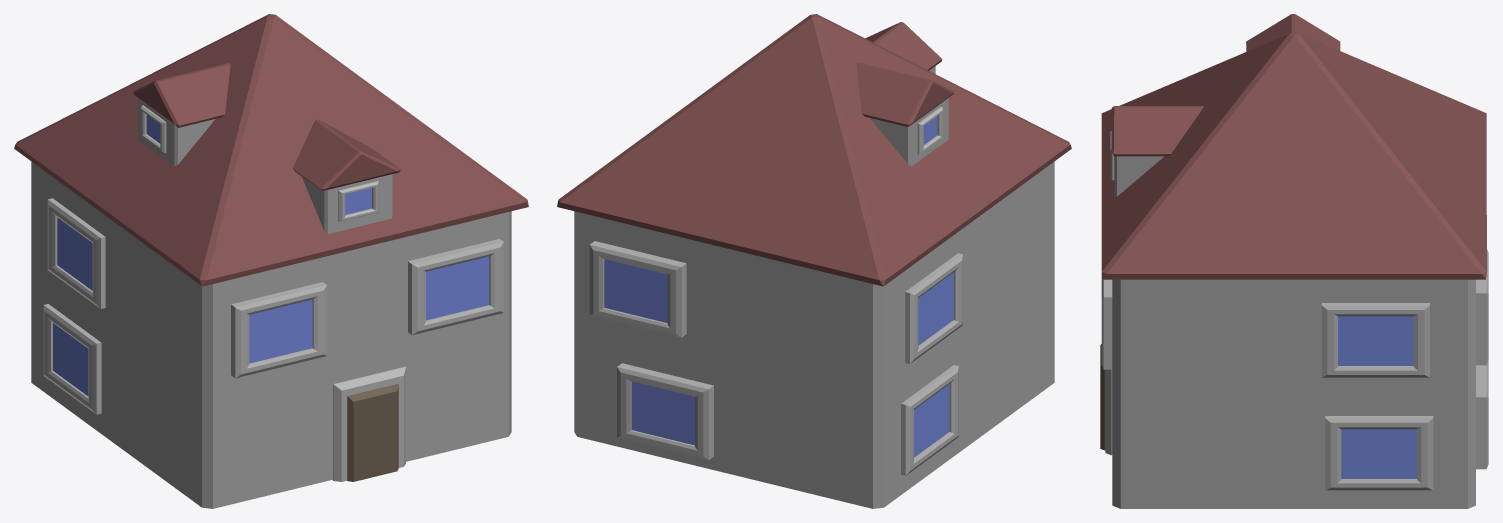
The model's file is house2.fbx.
3 renders of one model, left to right at view 1: azimuth 30°, elevation 25°; view 2: azimuth 150°, elevation 25°; view 3: azimuth 270°, elevation 25°, orthographic.
Visible parts, largest first — view 1: house1; view 2: house1; view 3: house1.
Boxes of the visible parts, x1,y1,x2,y2 form: house1: (14,14,528,508); house1: (557,14,1071,508); house1: (1100,14,1488,508).
Size of the model in its own units: 9 by 10.31 by 9.08.
